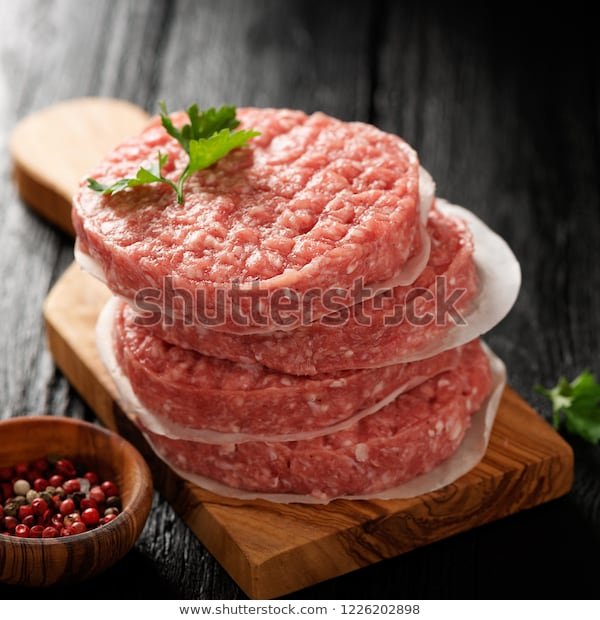ground_beef: (114, 102, 400, 312), (170, 307, 493, 434), (210, 385, 522, 497)
